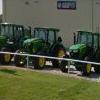Tractor: (16, 18, 100, 69)
